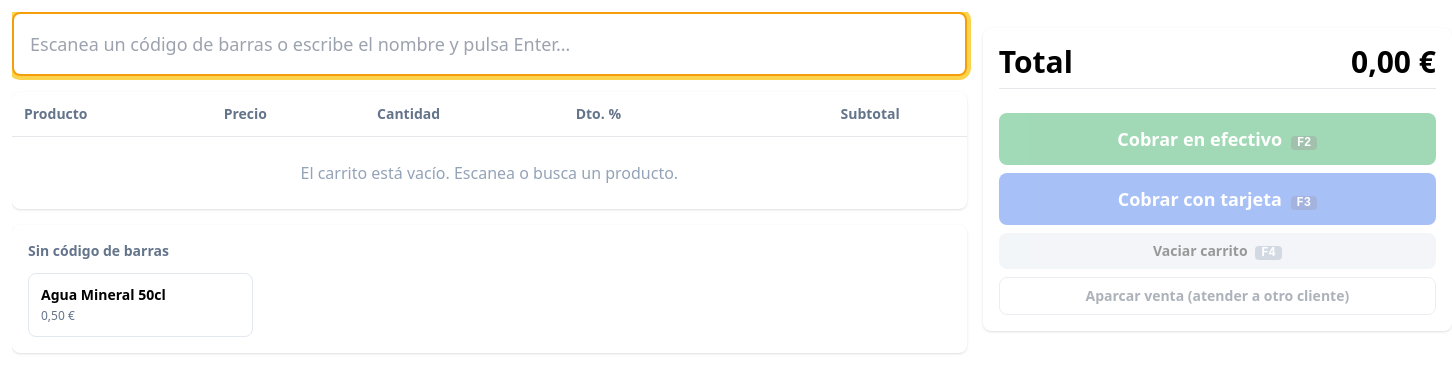
Test case: búsqueda y carrito › busca un producto por nombre, lo selecciona de la lista y aparece en el carrito
Type "Agua" into the dropdown with placeholder "Escanea un código de barras" at {"x": 489, "y": 44}, box left=12, top=12, right=967, bottom=76
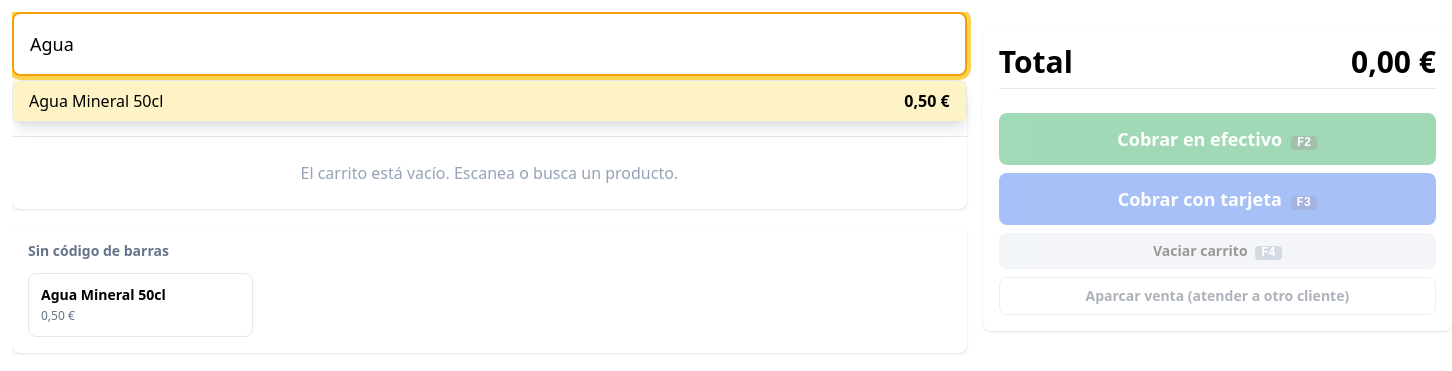
Click the option "Agua Mineral 50cl 0,50 €" at {"x": 96, "y": 101}, box left=13, top=81, right=966, bottom=121
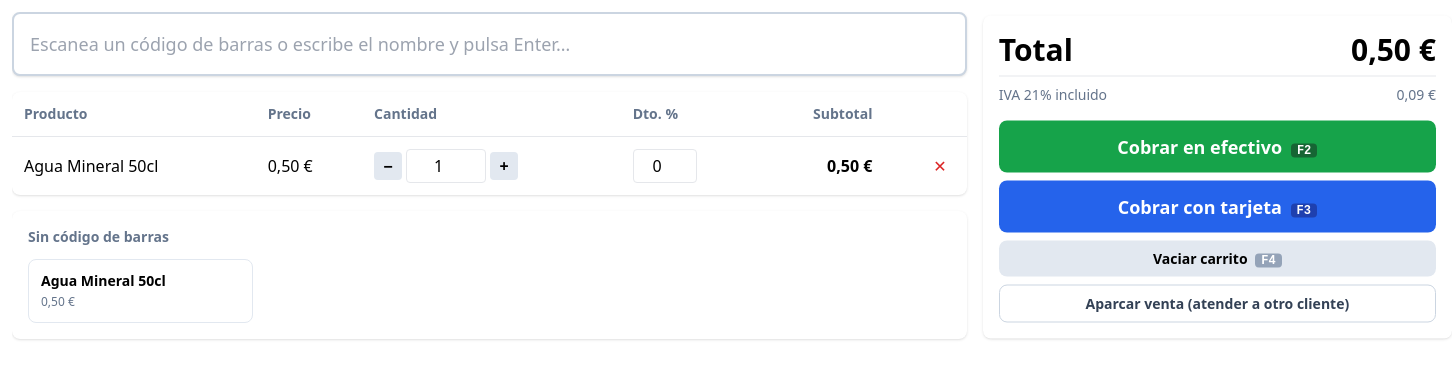
Check: the text "Agua Mineral 50cl" is shown, box left=12, top=136, right=256, bottom=195
Check: the text "Total" shows "0,50 €", box left=1351, top=28, right=1436, bottom=70
